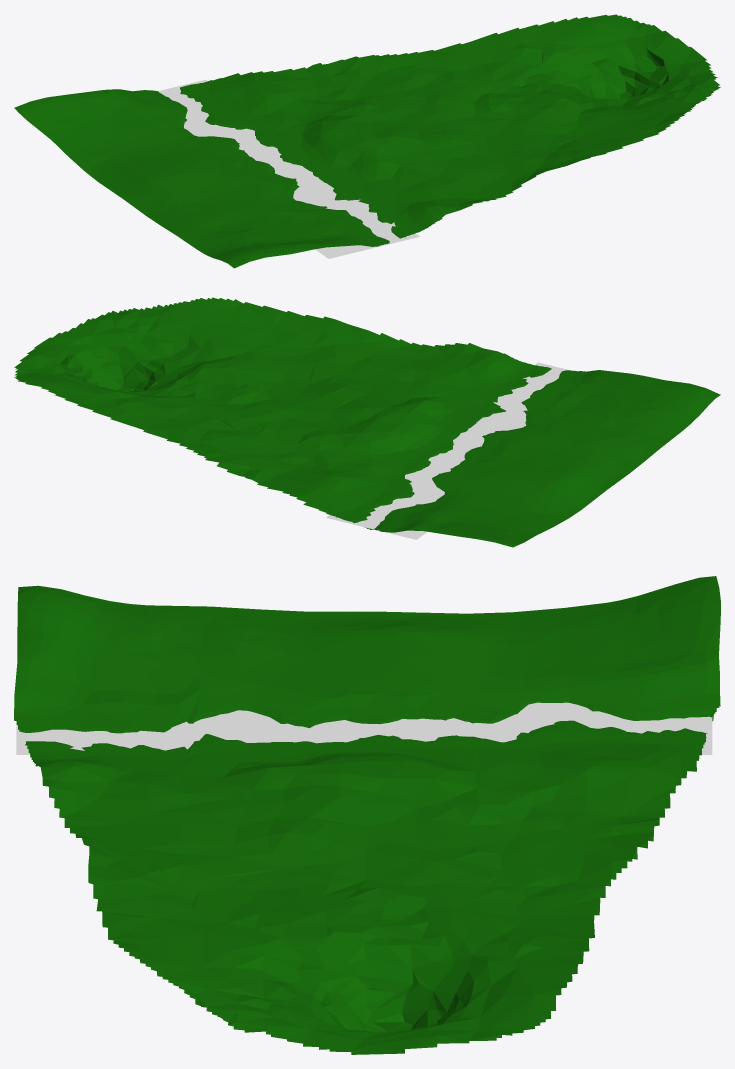
File: TestTerrain2.fbx
The picture shows the model from 3 angles, top to bottom: view 1: azimuth 30°, elevation 25°; view 2: azimuth 150°, elevation 25°; view 3: azimuth 270°, elevation 25°; orthographic projection. The views are drawn at different scales.
Parts seen in each view (by area): view 1: Landscape.019, Landscape_plane.010; view 2: Landscape.019, Landscape_plane.010; view 3: Landscape.019, Landscape_plane.010.
Part boxes in pixels (box(x1,y1,x2,y2)): Landscape.019: box(14, 14, 720, 268); Landscape_plane.010: box(158, 79, 419, 258); Landscape.019: box(14, 297, 720, 547); Landscape_plane.010: box(326, 362, 569, 539); Landscape.019: box(14, 576, 720, 1054); Landscape_plane.010: box(16, 702, 712, 754).
Size of the model in its own units: 1268 by 94.35 by 823.
